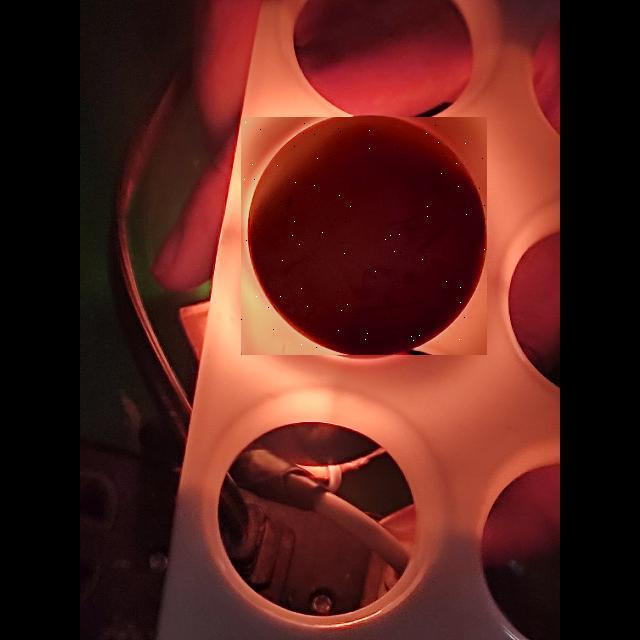Fertile: (241, 117, 487, 355)
